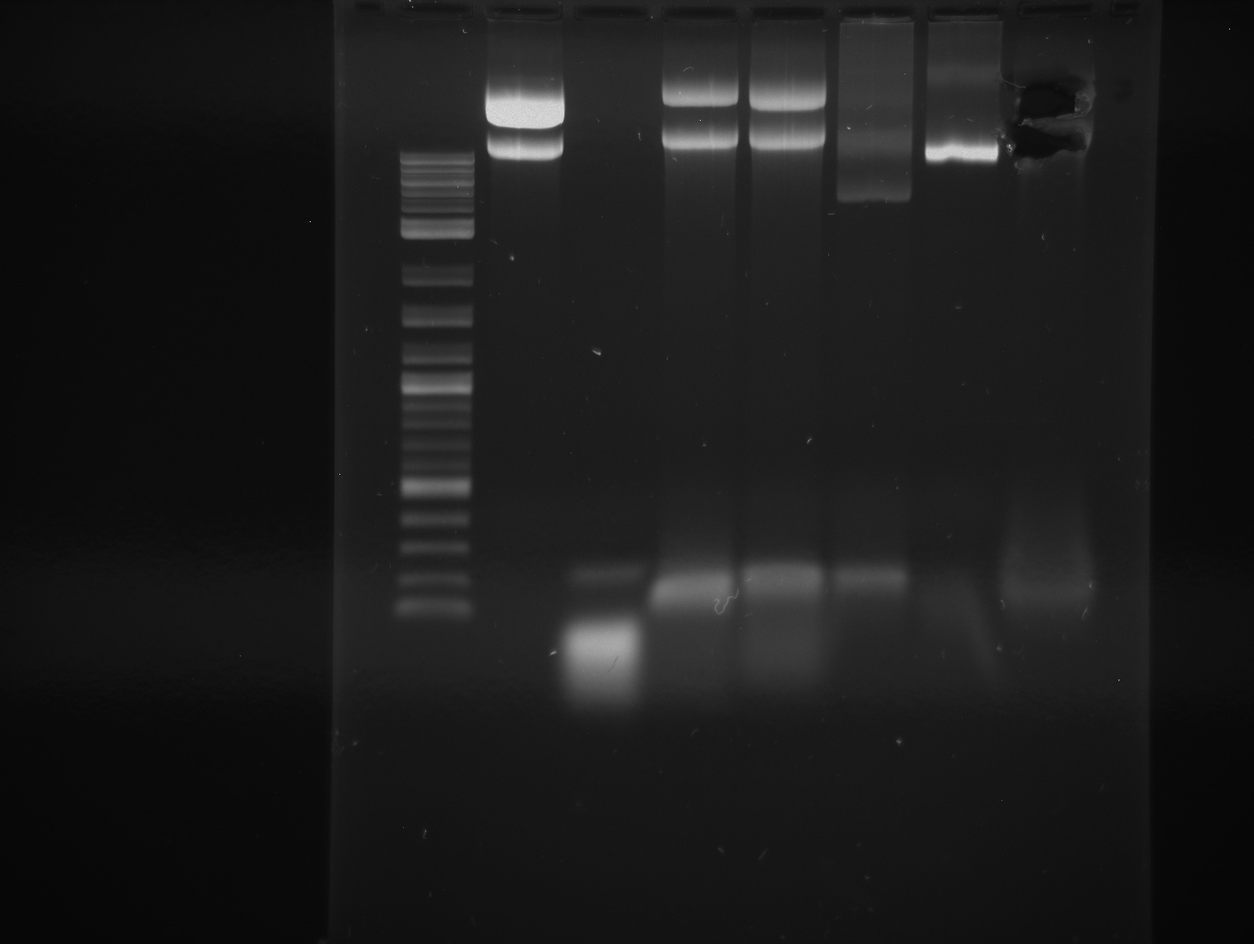Lane: (917, 18, 1006, 931), (477, 14, 561, 944), (1012, 16, 1096, 944), (657, 14, 741, 924), (831, 23, 915, 930), (567, 12, 642, 944), (749, 21, 824, 940)
ladder: (396, 12, 474, 944)
